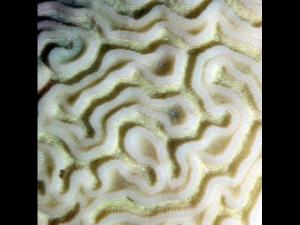bleached_corals: (38, 0, 260, 225)
